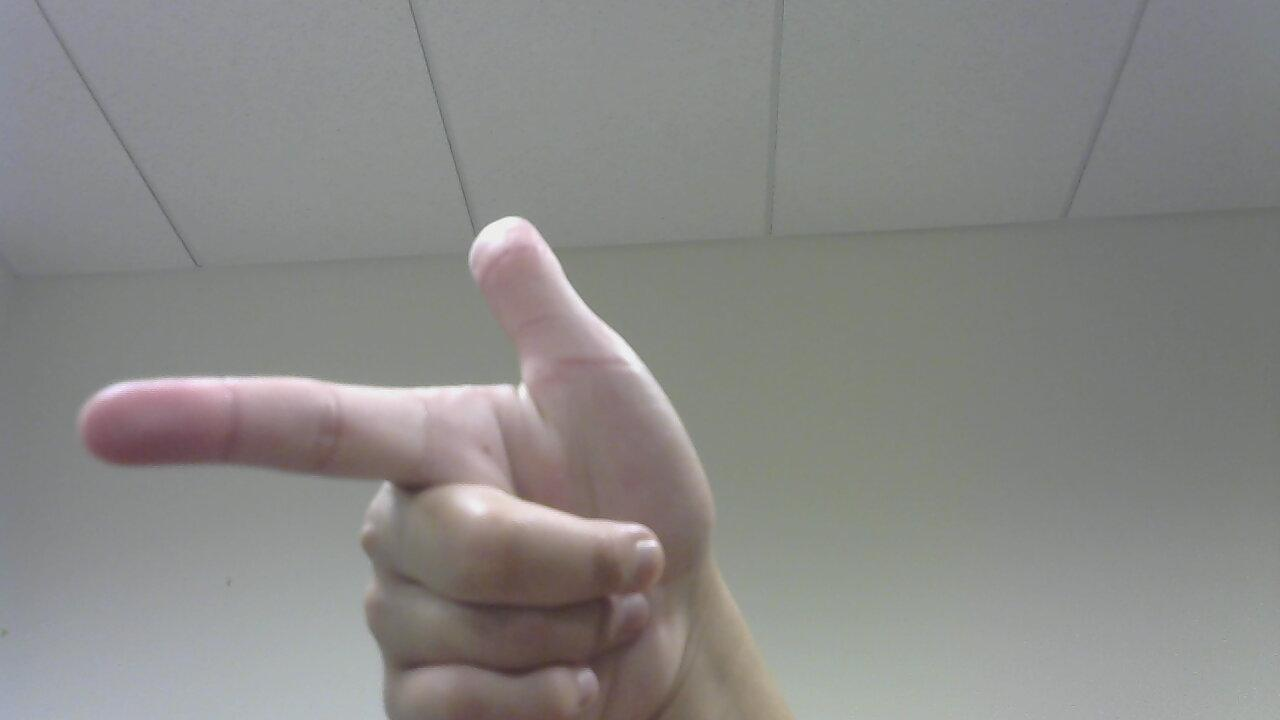hands: (55, 197, 749, 720)
